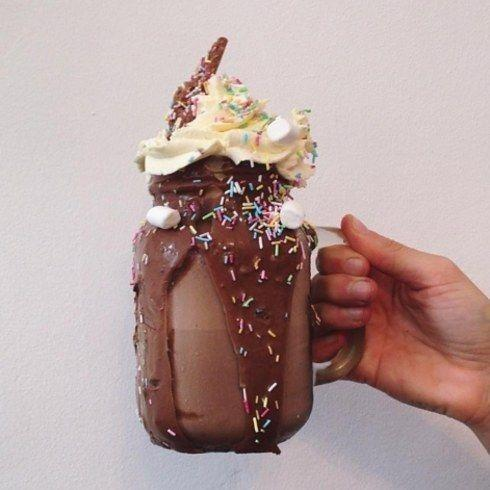glass-mug: (127, 164, 374, 457)
